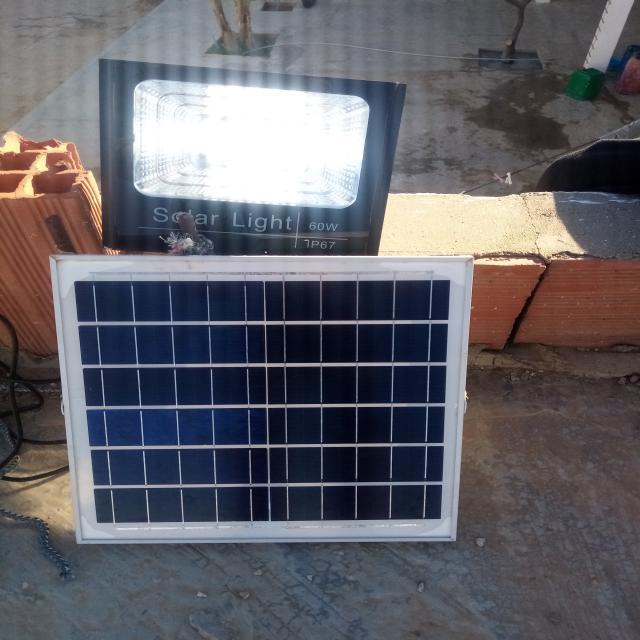no faulty: (55, 255, 472, 543)
